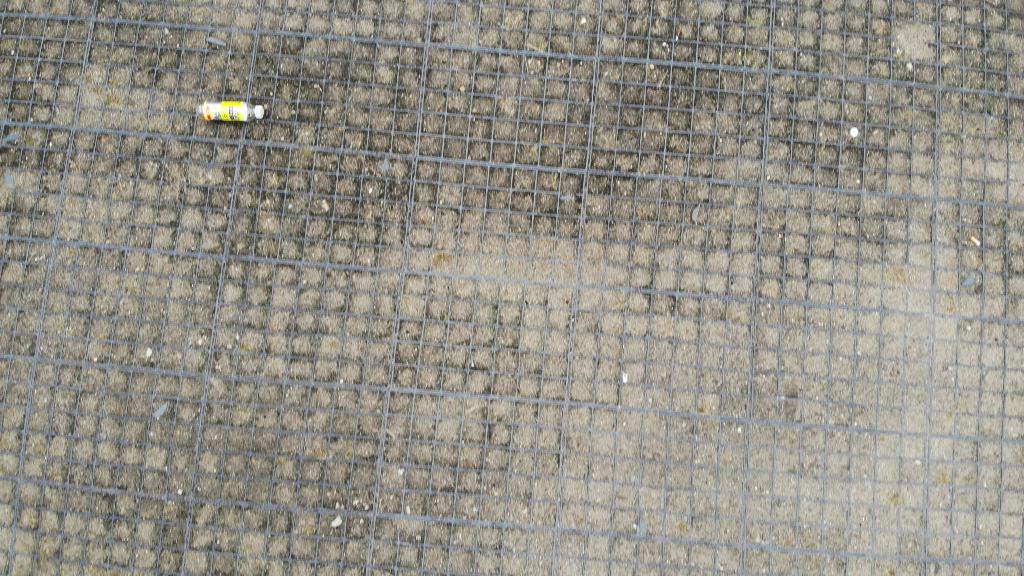garbage: (196, 100, 267, 124)
